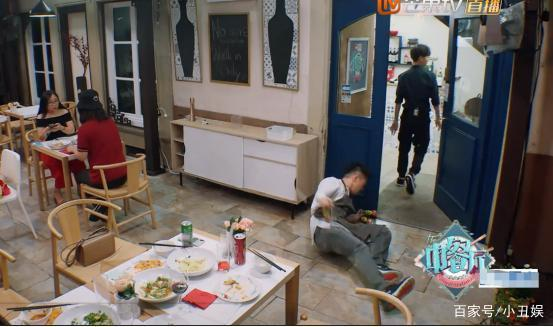Fall-Detected: (301, 158, 417, 311)
